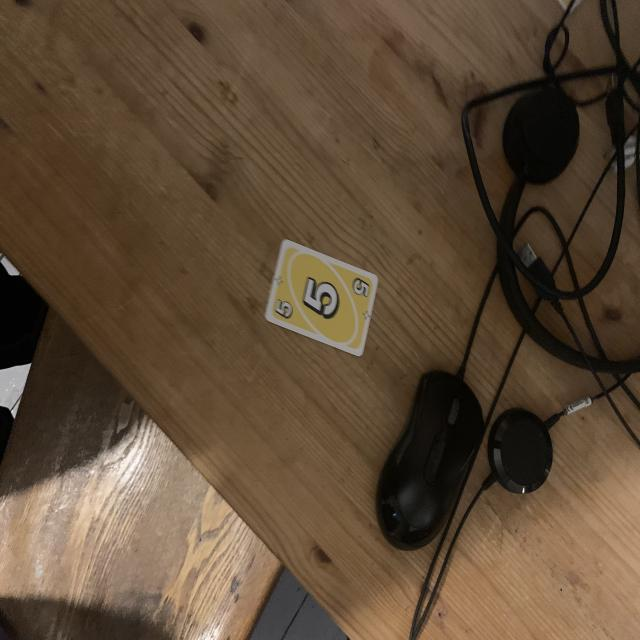lyellow-5: (270, 296, 297, 320)
